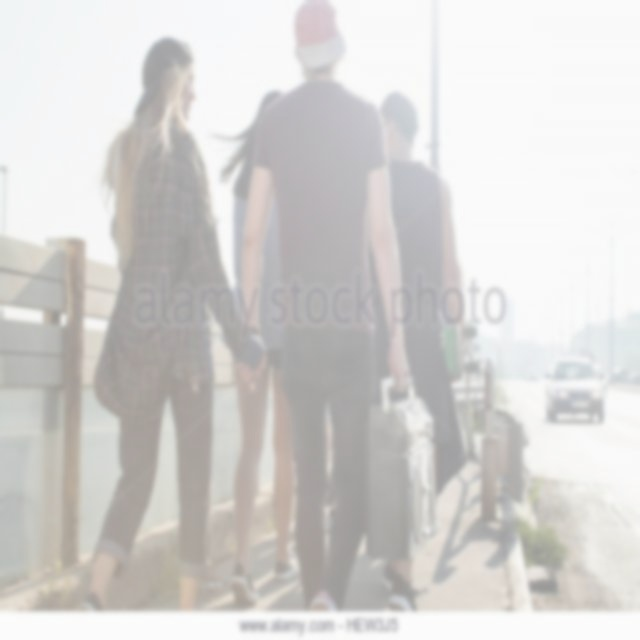pessoa: (229, 0, 418, 612), (74, 32, 268, 614), (204, 83, 306, 609), (363, 84, 464, 613), (410, 356, 469, 538), (319, 434, 340, 522)
